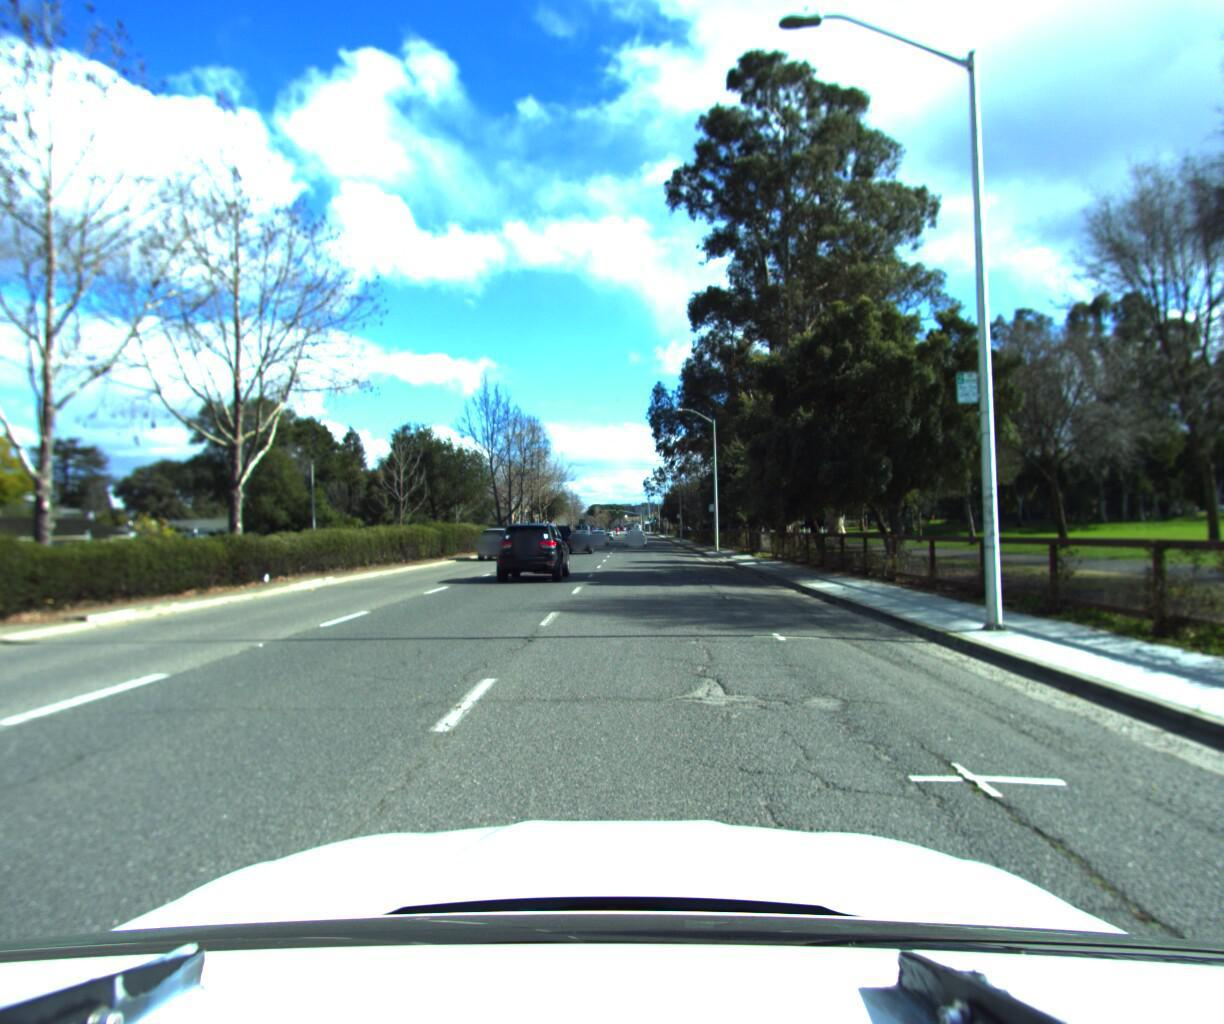car: (489, 520, 571, 584), (468, 526, 519, 563), (561, 529, 595, 558), (625, 529, 647, 545), (591, 529, 610, 544)
